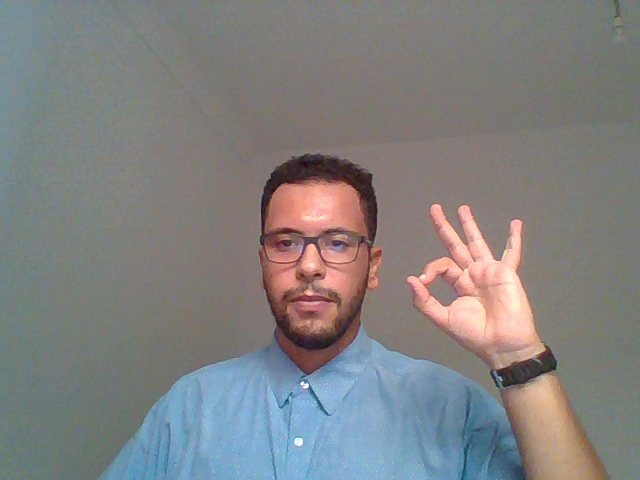okay: (393, 175, 568, 434)
